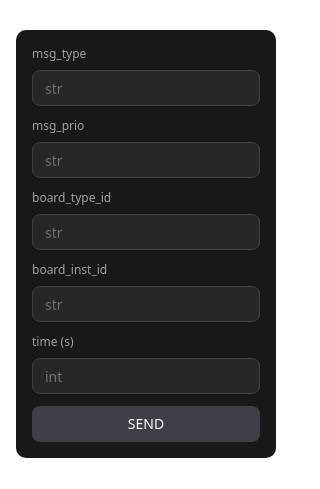
CanSender Component › shows validation error for non-integer time
The width and height of the screenshot is (320, 489).
Type "notanumber" into the field labelled "time (s)" at (146, 376), box [32,358,260,394]
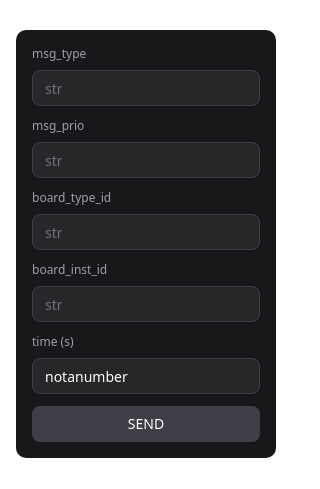
Click the button "SEND" at (146, 424), box [32,406,260,442]
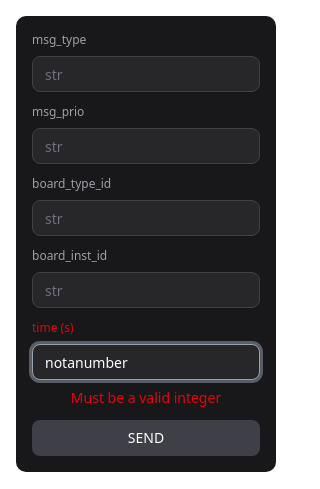
Result: the text "Must be a valid integer" is shown at [71,388,221,407]
